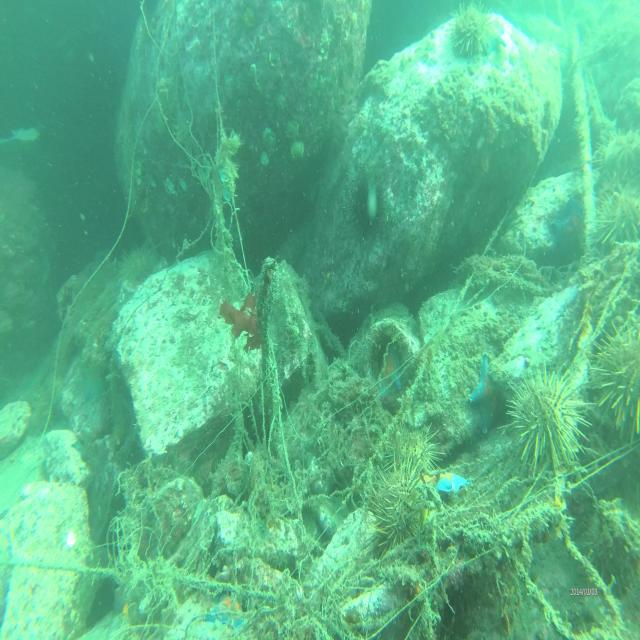echinus: (508, 371, 580, 484), (372, 465, 431, 558), (599, 322, 639, 447), (395, 423, 440, 484), (452, 2, 490, 62), (352, 178, 384, 236)
starfish: (471, 357, 504, 433), (205, 588, 249, 632), (376, 342, 402, 402), (434, 467, 469, 498), (481, 14, 505, 54)
